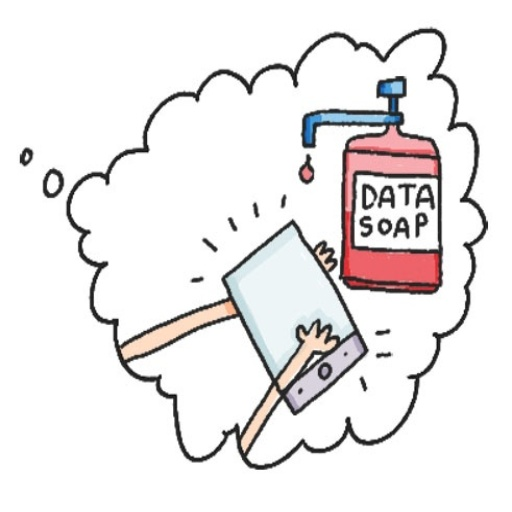hand: (295, 318, 337, 356), (310, 237, 337, 275)
